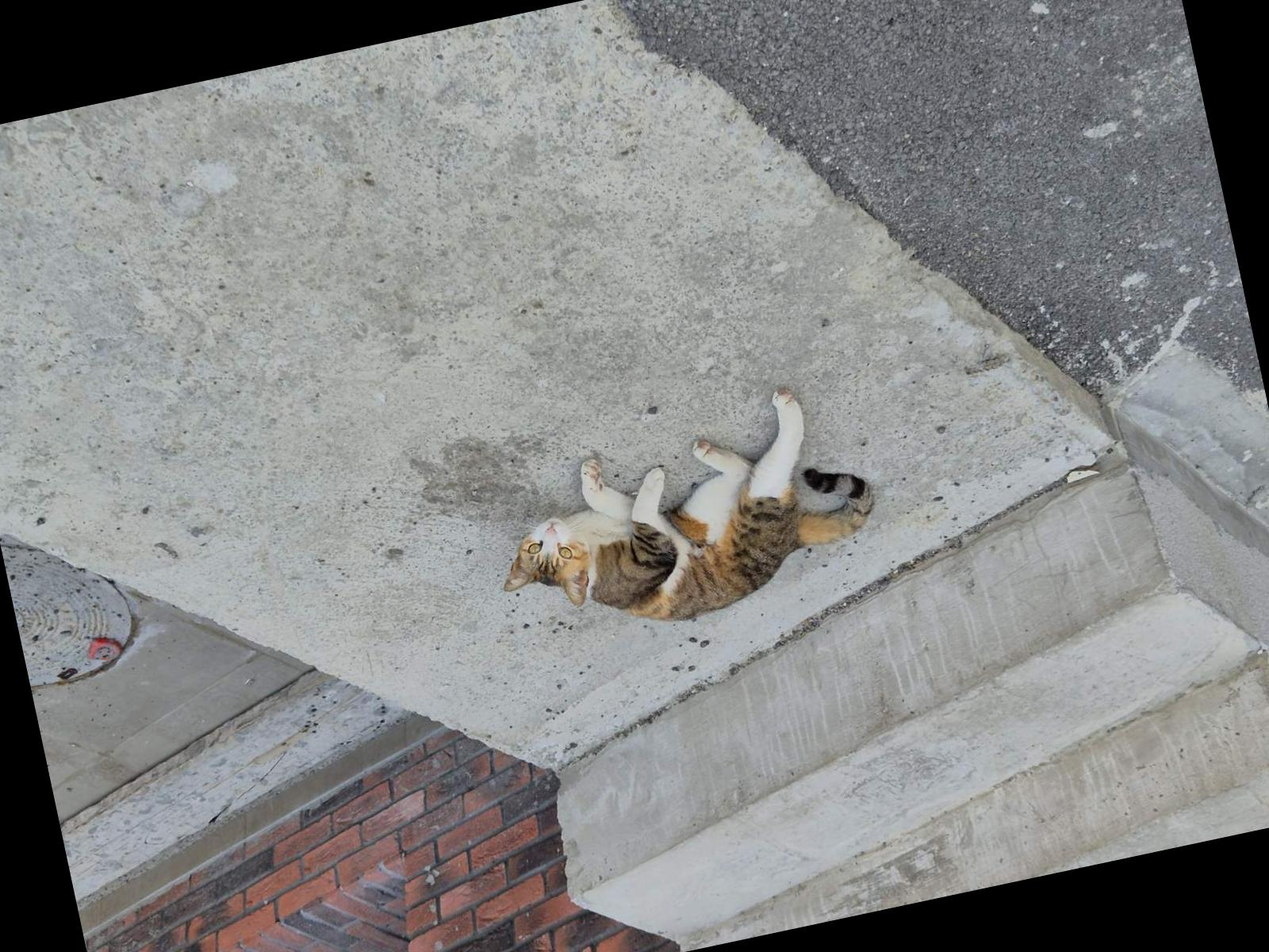macka: (474, 373, 892, 658)
